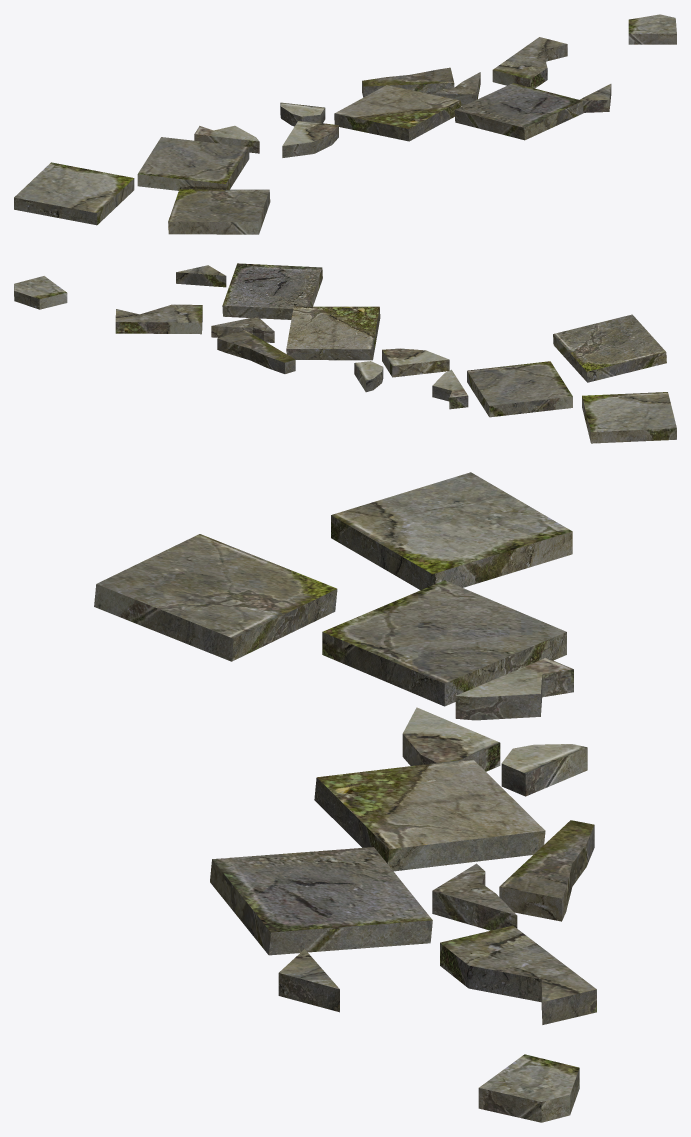
Rendered from bg_lut_lucastle_castlefloorcrack01d_sm_lkj.FBX.
3 renders of one model, top to bottom at view 1: azimuth 30°, elevation 25°; view 2: azimuth 150°, elevation 25°; view 3: azimuth 270°, elevation 25°, orthographic. The views are drawn at different scales.
Visible parts, largest first — view 1: bg_lut_lucastle_castlefloorcrack01d_sm_lkj; view 2: bg_lut_lucastle_castlefloorcrack01d_sm_lkj; view 3: bg_lut_lucastle_castlefloorcrack01d_sm_lkj.
Part boxes in pixels (x1=…): bg_lut_lucastle_castlefloorcrack01d_sm_lkj: x1=14, y1=14, x2=676, y2=234; bg_lut_lucastle_castlefloorcrack01d_sm_lkj: x1=14, y1=263, x2=676, y2=443; bg_lut_lucastle_castlefloorcrack01d_sm_lkj: x1=94, y1=472, x2=596, y2=1122.
Bounding box in the file's own units: 520 × 17.75 × 175.
